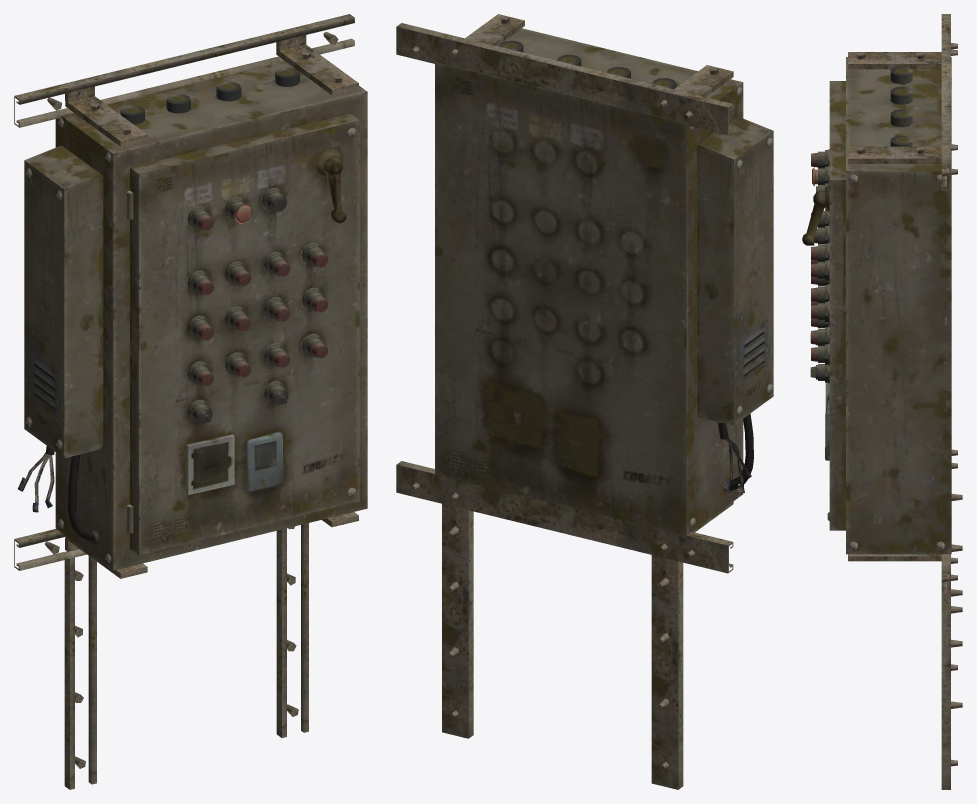
File: jungle_terminal_a.glb
3 renders of one model, left to right at view 1: azimuth 30°, elevation 25°; view 2: azimuth 150°, elevation 25°; view 3: azimuth 270°, elevation 25°, orthographic. The views are drawn at different scales.
Parts seen in each view (by area): view 1: jungle_terminal_a; view 2: jungle_terminal_a; view 3: jungle_terminal_a.
Boxes of the visible parts, <box> form: jungle_terminal_a: <box>14,14,367,789</box>; jungle_terminal_a: <box>396,14,773,789</box>; jungle_terminal_a: <box>802,14,962,789</box>.
Size of the model in its own units: 1.23 by 2.39 by 0.5379.
Materials: 3 (3 with a texture image).
